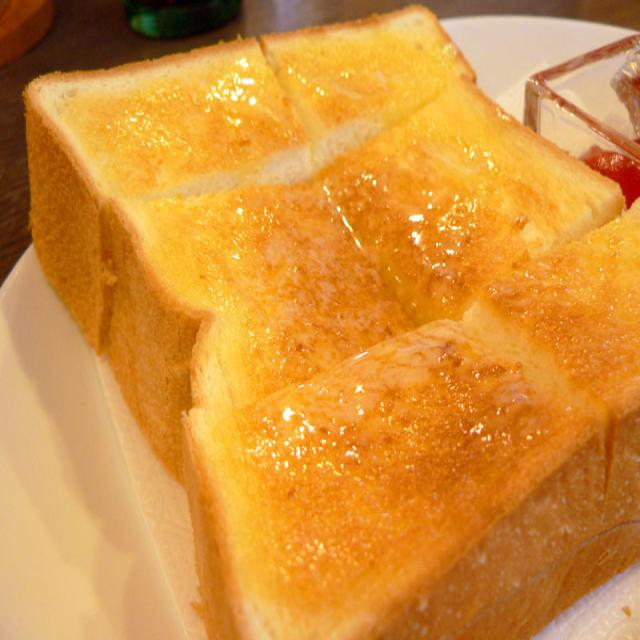面包点心: (29, 6, 640, 640)
